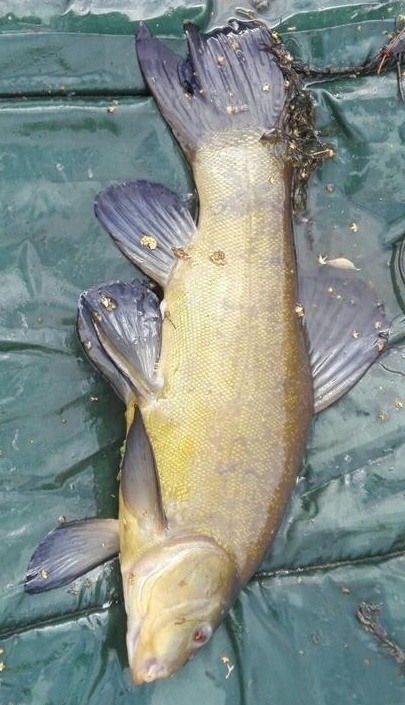Tinca tinca: (20, 20, 385, 685)
